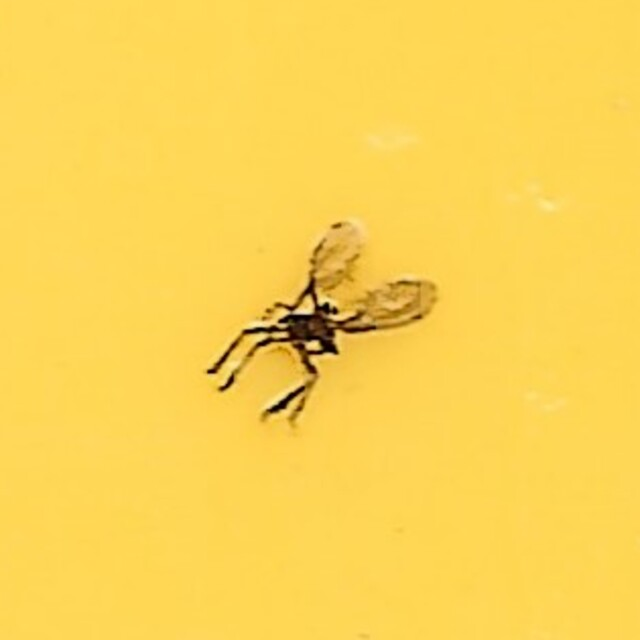Nematocera: (203, 210, 437, 430)
